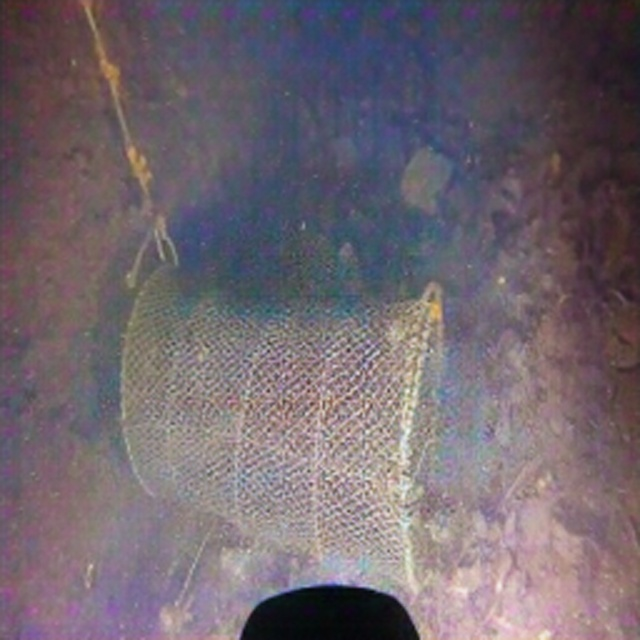mine: (118, 265, 444, 599)
